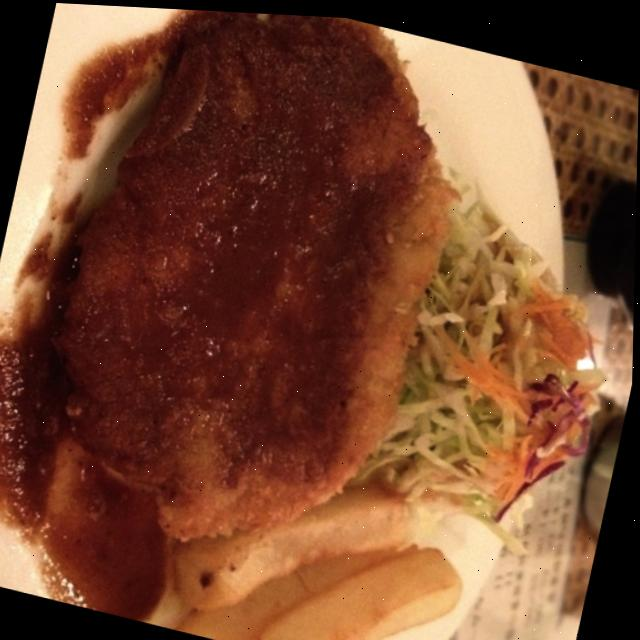鸡肉料理 含炸鸡: (0, 0, 511, 625)
